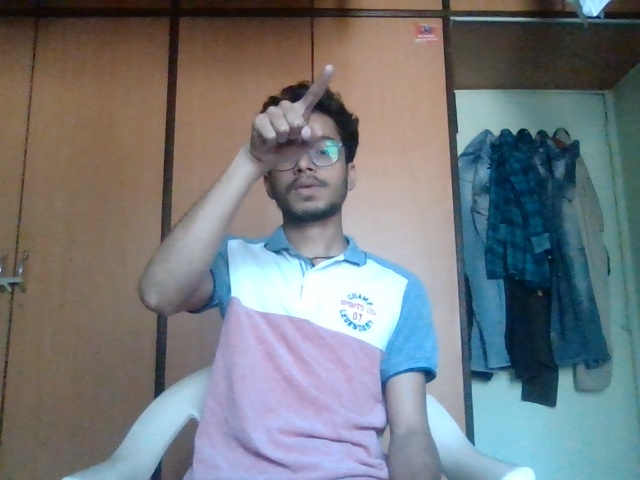you: (238, 60, 356, 159)
